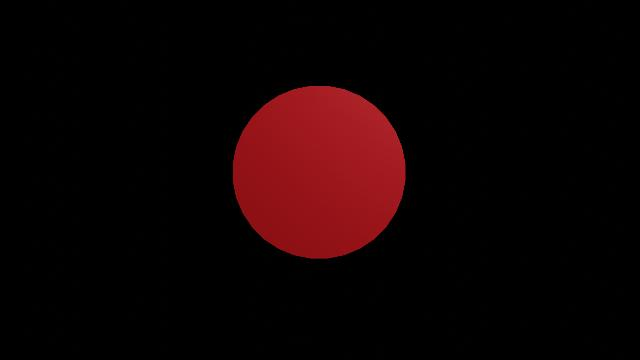Cylinder: (226, 80, 418, 270)
